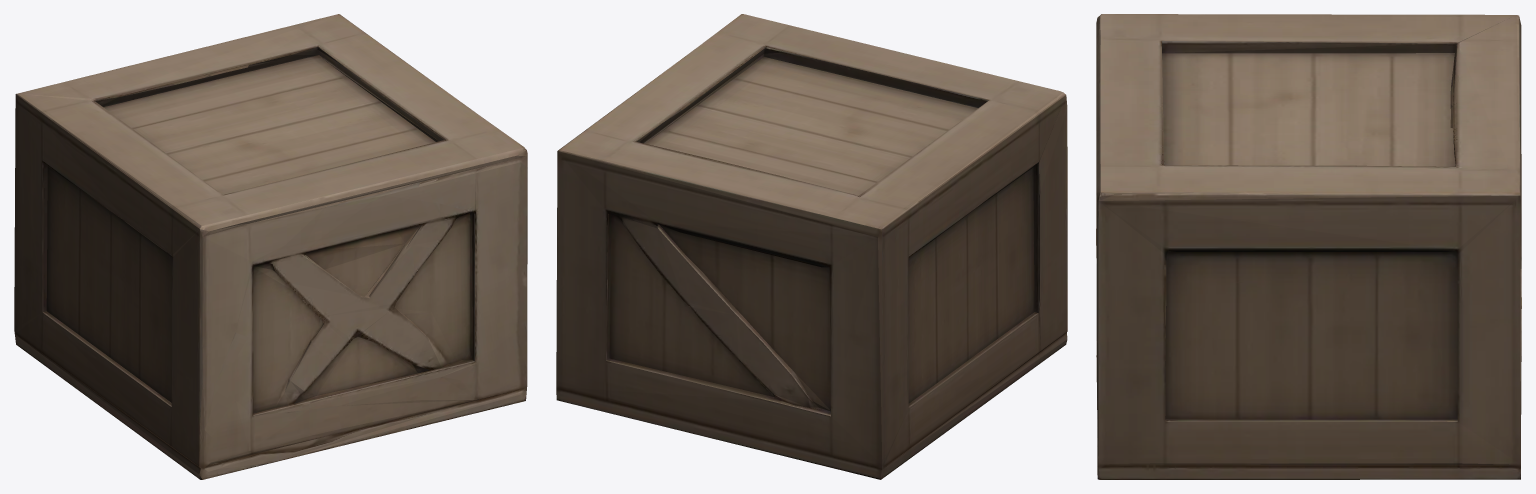
The model's file is crate-solid.glb.
3 views of the same model, side by side, from view 1: azimuth 30°, elevation 25°; view 2: azimuth 150°, elevation 25°; view 3: azimuth 270°, elevation 25° (orthographic). The views are drawn at different scales.
Parts seen in each view (by area): view 1: geometry_0; view 2: geometry_0; view 3: geometry_0.
Boxes of the visible parts, x1=… form: geometry_0: x1=14, y1=14, x2=527, y2=479; geometry_0: x1=556, y1=14, x2=1067, y2=479; geometry_0: x1=1096, y1=14, x2=1521, y2=479.
Bounding box in the file's own units: 0.4946 × 0.3655 × 0.4893.
Materials: 1 (1 with a texture image).
